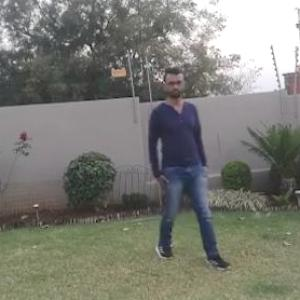follow: (132, 63, 202, 268)
